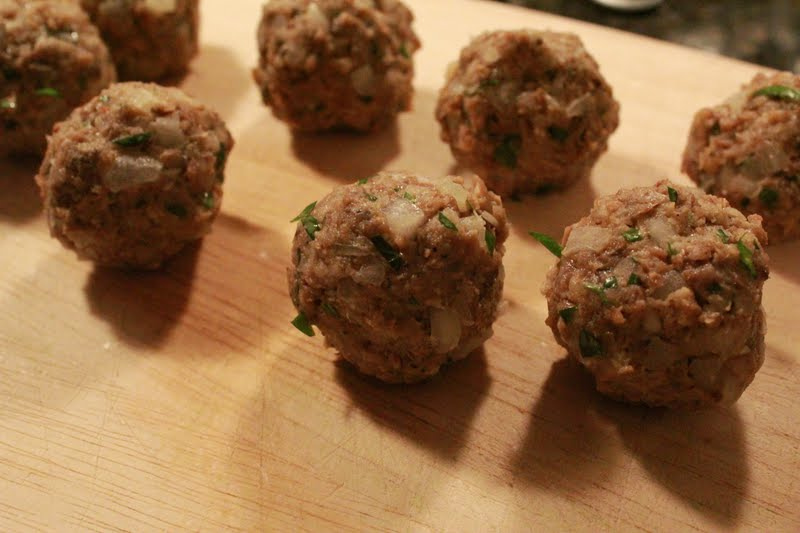meatballs: (561, 186, 763, 408), (292, 168, 489, 382), (44, 90, 219, 261), (456, 35, 614, 187), (260, 2, 409, 131), (695, 78, 800, 224)
